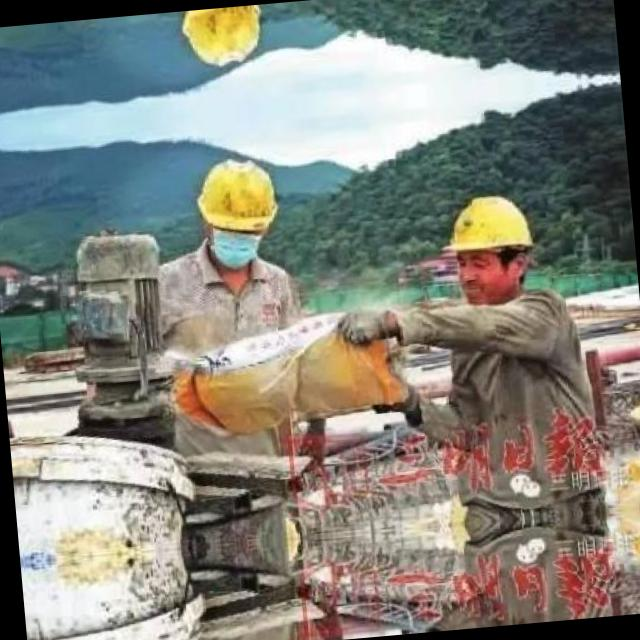helmet: (422, 177, 550, 316), (184, 142, 290, 268), (171, 3, 275, 82)
